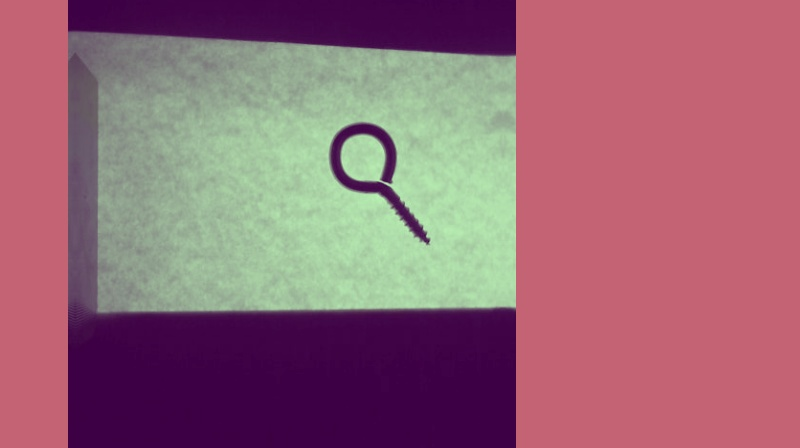O001: (325, 117, 433, 249)
